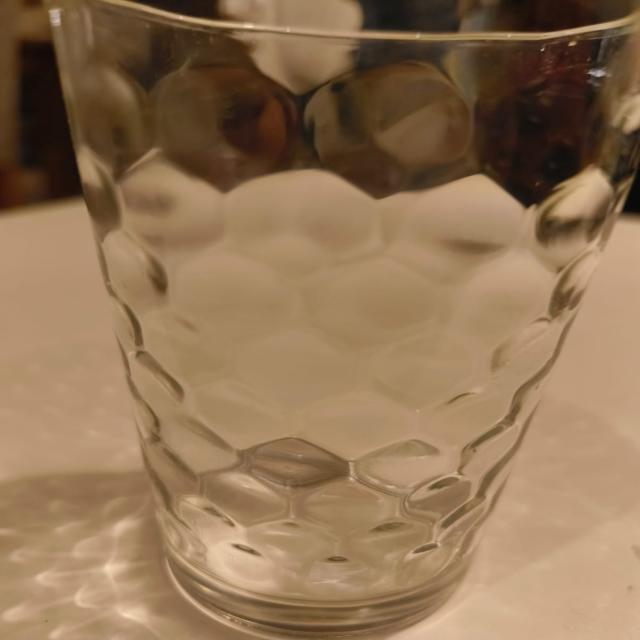ok g2: (41, 0, 640, 633)
